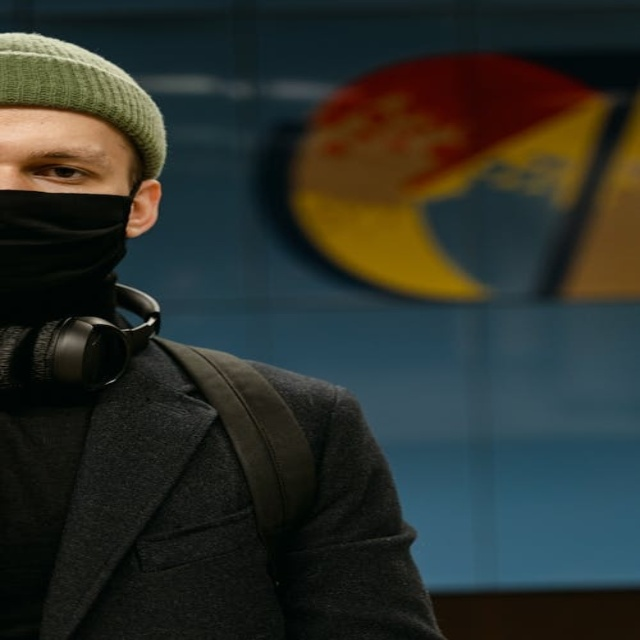Mascara: (1, 189, 137, 325)
Sin_gafas: (1, 136, 128, 190)
